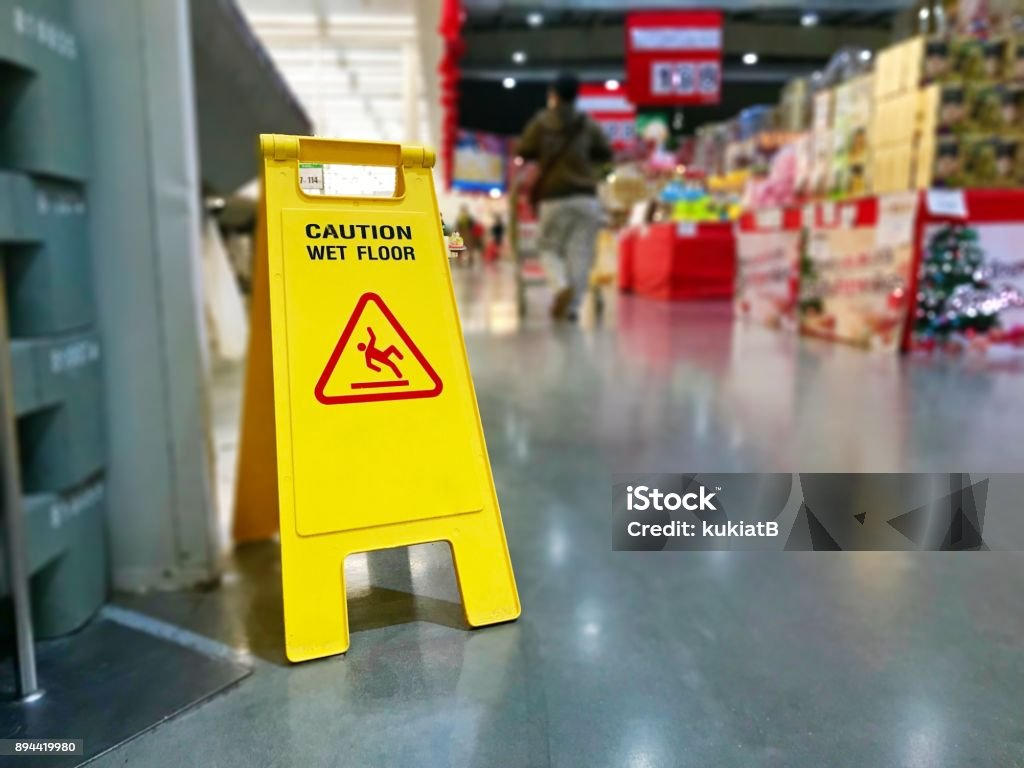wet caution sign: (179, 90, 566, 706)
